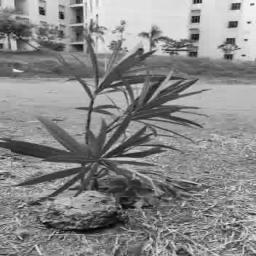OLEANDER: (11, 31, 203, 198)
